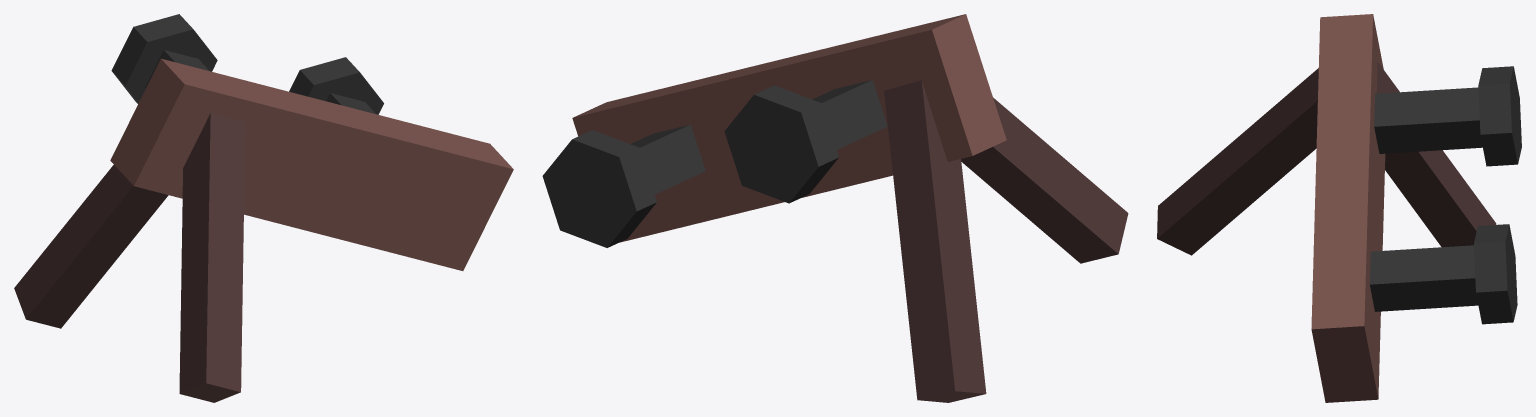
File: DarkRoseWoodDecorationSmallBrokenRailwayBuffer1.fbx
3 renders of one model, left to right at view 1: azimuth 30°, elevation 25°; view 2: azimuth 150°, elevation 25°; view 3: azimuth 270°, elevation 25°, orthographic. The views are drawn at different scales.
Visible parts, largest first — view 1: WoodenStand, MetalBuffers; view 2: WoodenStand, MetalBuffers; view 3: WoodenStand, MetalBuffers.
Boxes of the visible parts, x1,y1,x2,y2 form: WoodenStand: [14, 58, 513, 402]; MetalBuffers: [111, 14, 383, 114]; WoodenStand: [572, 14, 1128, 402]; MetalBuffers: [542, 80, 887, 247]; WoodenStand: [1157, 14, 1496, 402]; MetalBuffers: [1369, 66, 1521, 324].
Size of the model in its own units: 269 by 177 by 209.
